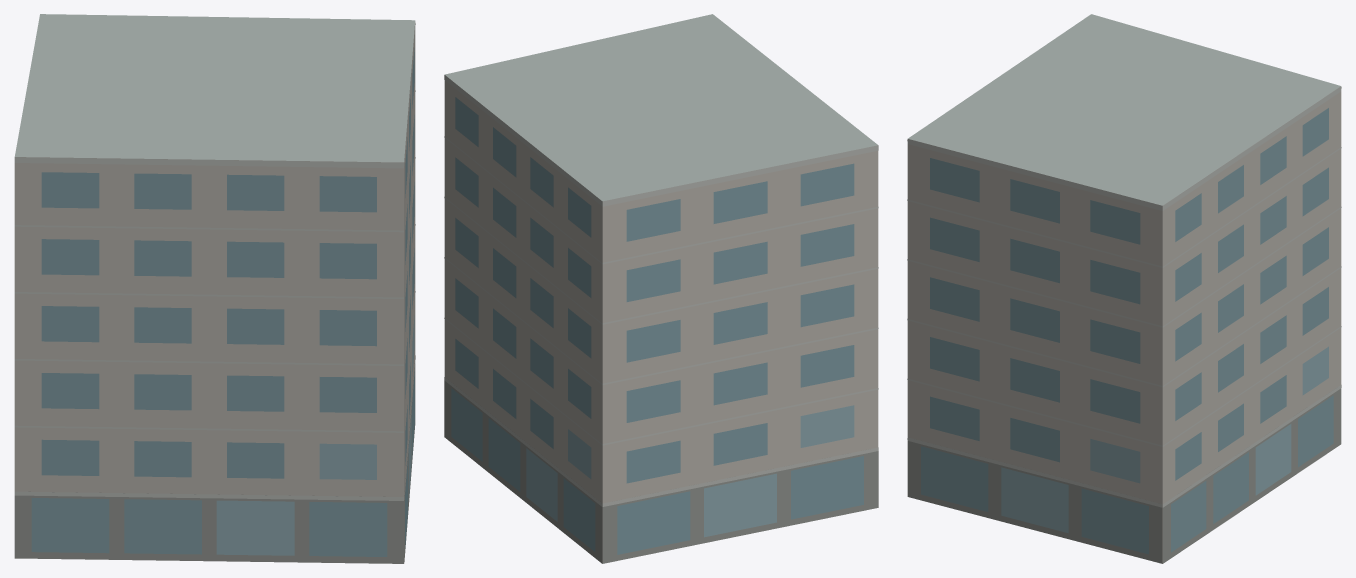
File: survey-upis-32743308.glb
3 views of the same model, side by side, from view 1: azimuth 30°, elevation 25°; view 2: azimuth 150°, elevation 25°; view 3: azimuth 270°, elevation 25° (orthographic). The views are drawn at different scales.
Parts seen in each view (by area): view 1: survey-upis-32743308.tmp; view 2: survey-upis-32743308.tmp; view 3: survey-upis-32743308.tmp.
Boxes of the visible parts, x1,y1,x2,y2 form: survey-upis-32743308.tmp: [14, 14, 415, 563]; survey-upis-32743308.tmp: [444, 14, 878, 563]; survey-upis-32743308.tmp: [907, 14, 1341, 563].
Bounding box in the file's own units: 18.86 × 16.4 × 18.03.
